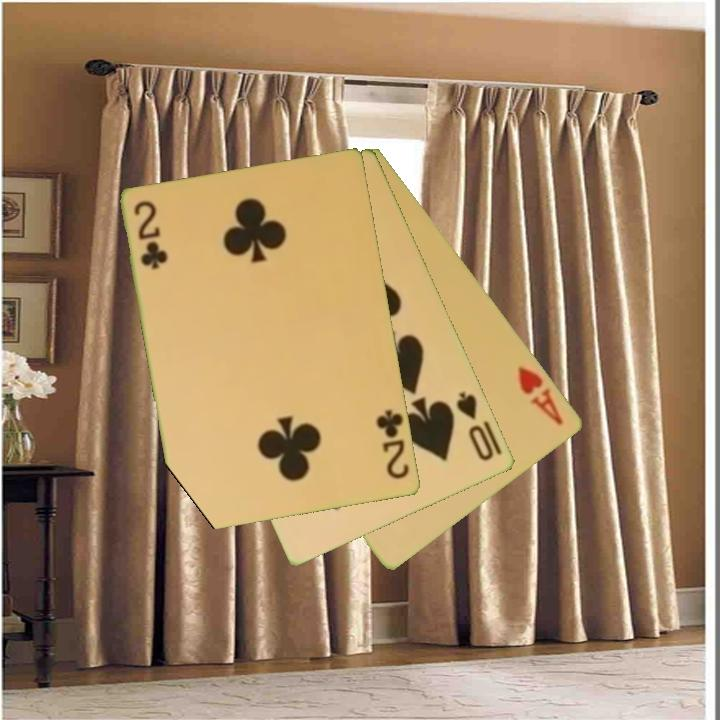10s: (453, 388, 497, 464)
2c: (373, 406, 413, 482), (130, 197, 169, 273)
Ah: (514, 363, 567, 429)
